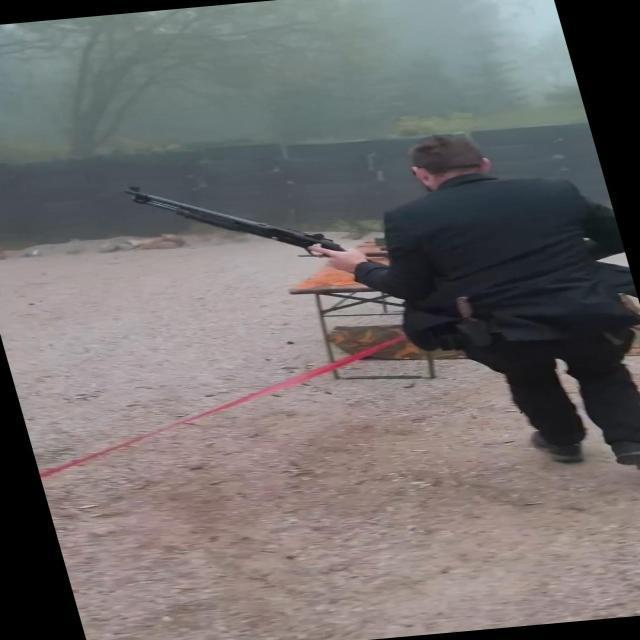pistol: (117, 184, 357, 262)
